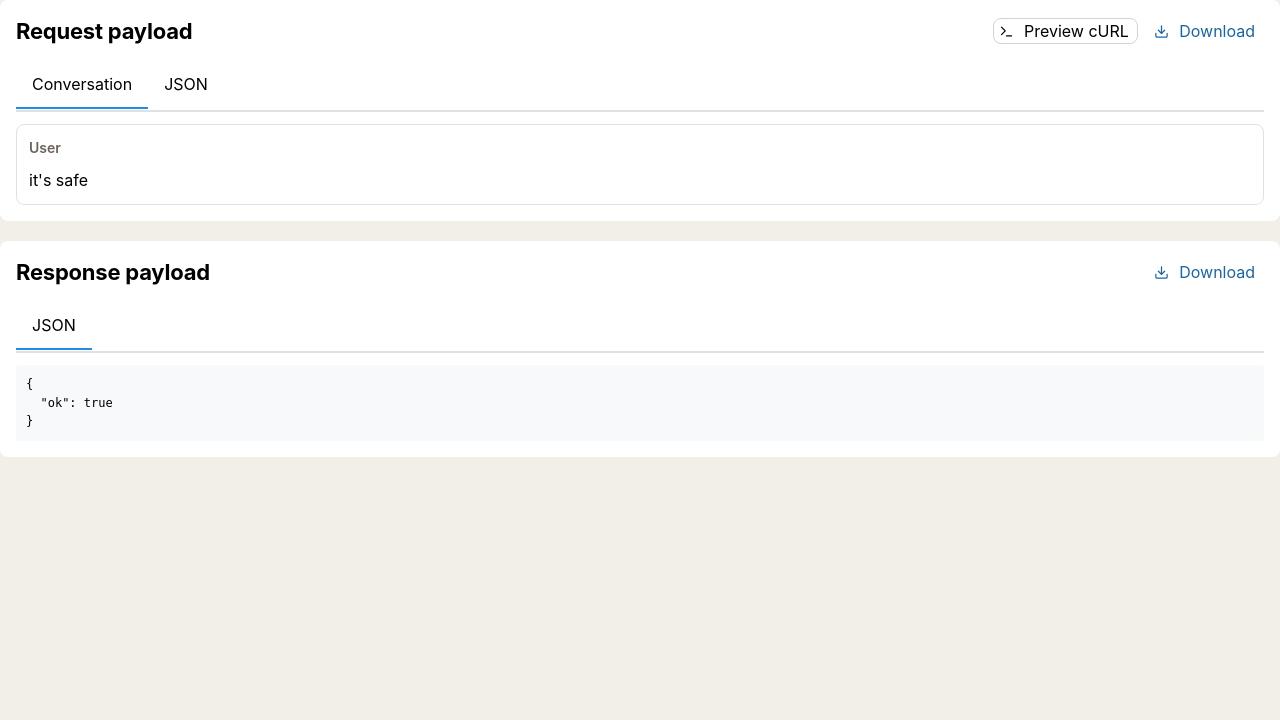
Scenario: the stored payload viewer › builds a same-origin curl preview with a placeholder and strips legacy secrets
Click the button "Preview cURL".
click(1065, 31)  # box left=993, top=18, right=1138, bottom=44
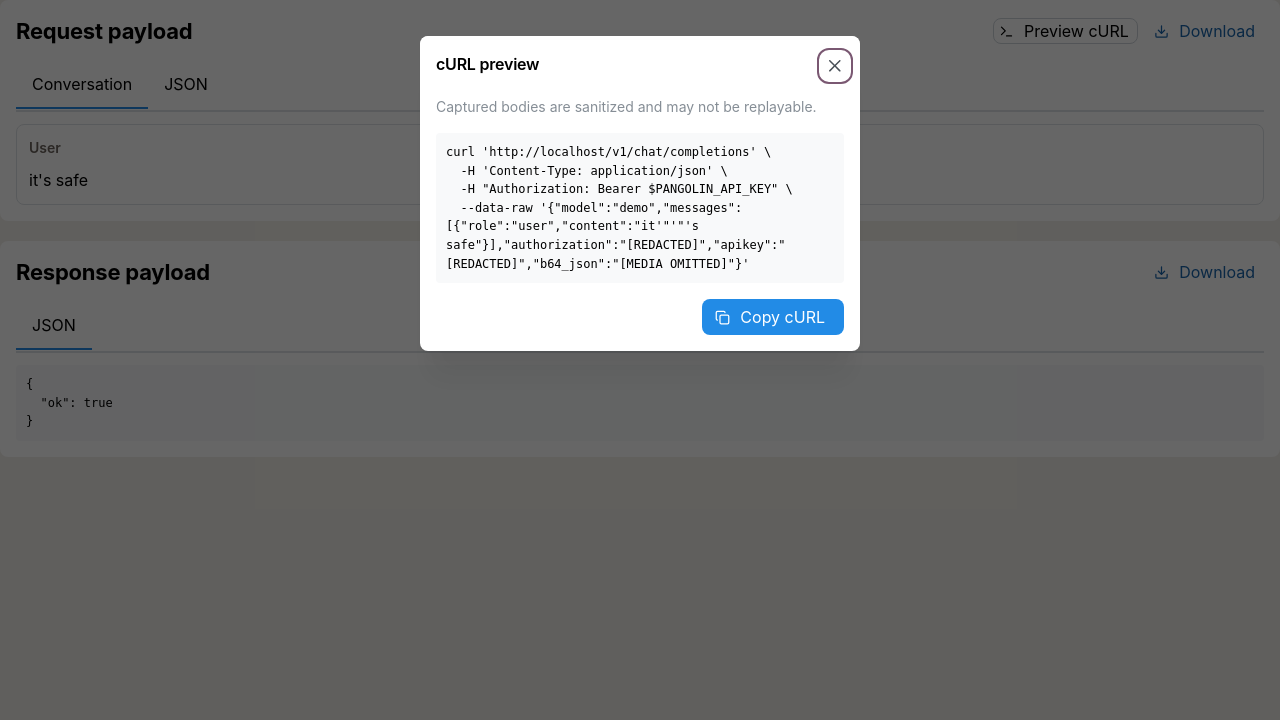
Expected: the dialog "cURL preview" shows "/v1/chat/completions", left=446, top=145, right=793, bottom=271
Expected: the dialog "cURL preview" shows "$PANGOLIN_API_KEY", left=446, top=145, right=793, bottom=271
Expected: the dialog "cURL preview" shows "it'\"'\"'s safe", left=446, top=145, right=793, bottom=271
